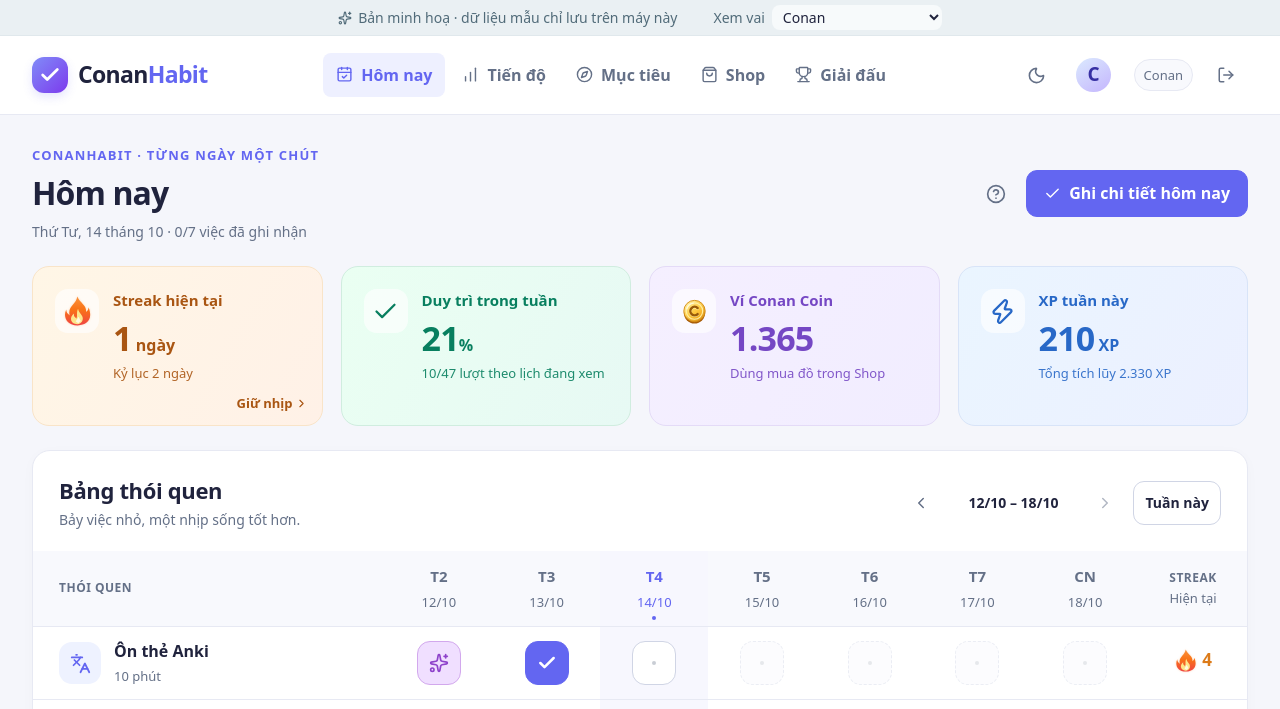
Test: includes desk tidying when a mentor copies a legacy six-habit schedule
Expected: the heading "Hôm nay" is shown, [32,171,168,214]
Select "Người hướng dẫn" in the dropdown named "Vai trong bản minh hoạ" at (857, 18), box [772,5,942,30]
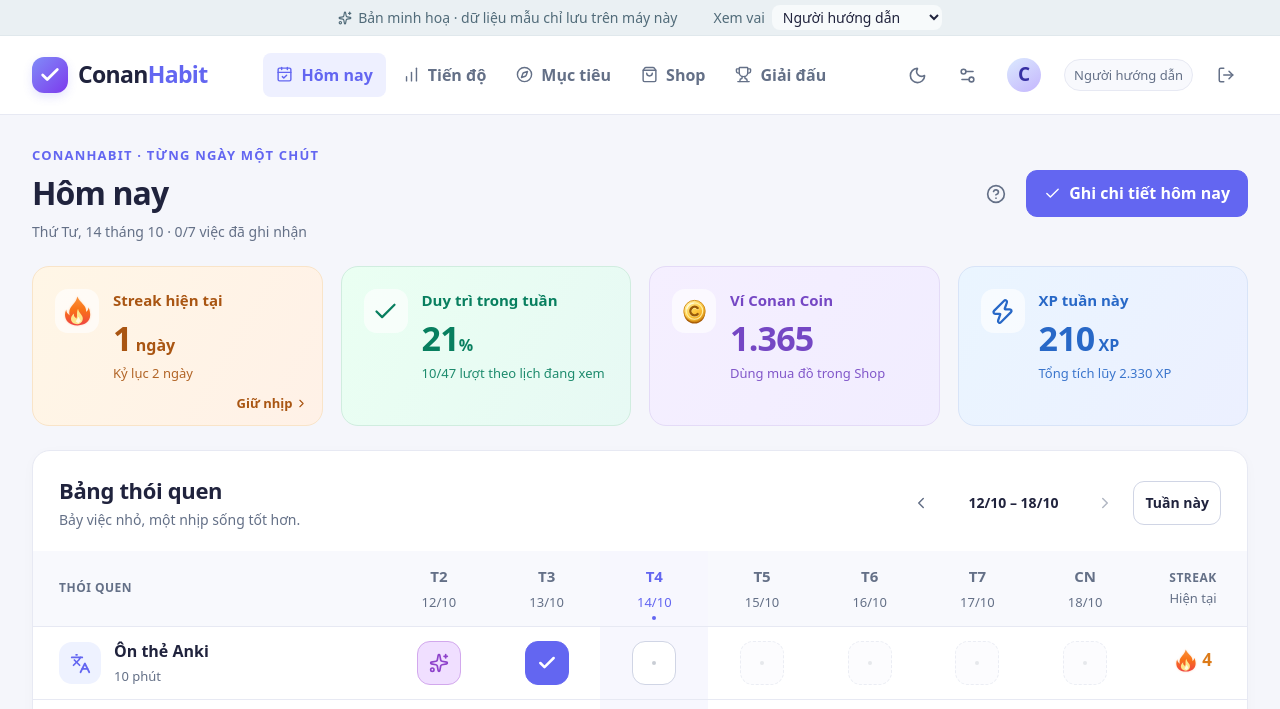
Expected: the text with class "role-pill" reads "Người hướng dẫn", [1074,66,1183,84]
Click the button named "Quản lý" at (967, 75), box [945,53,989,97]
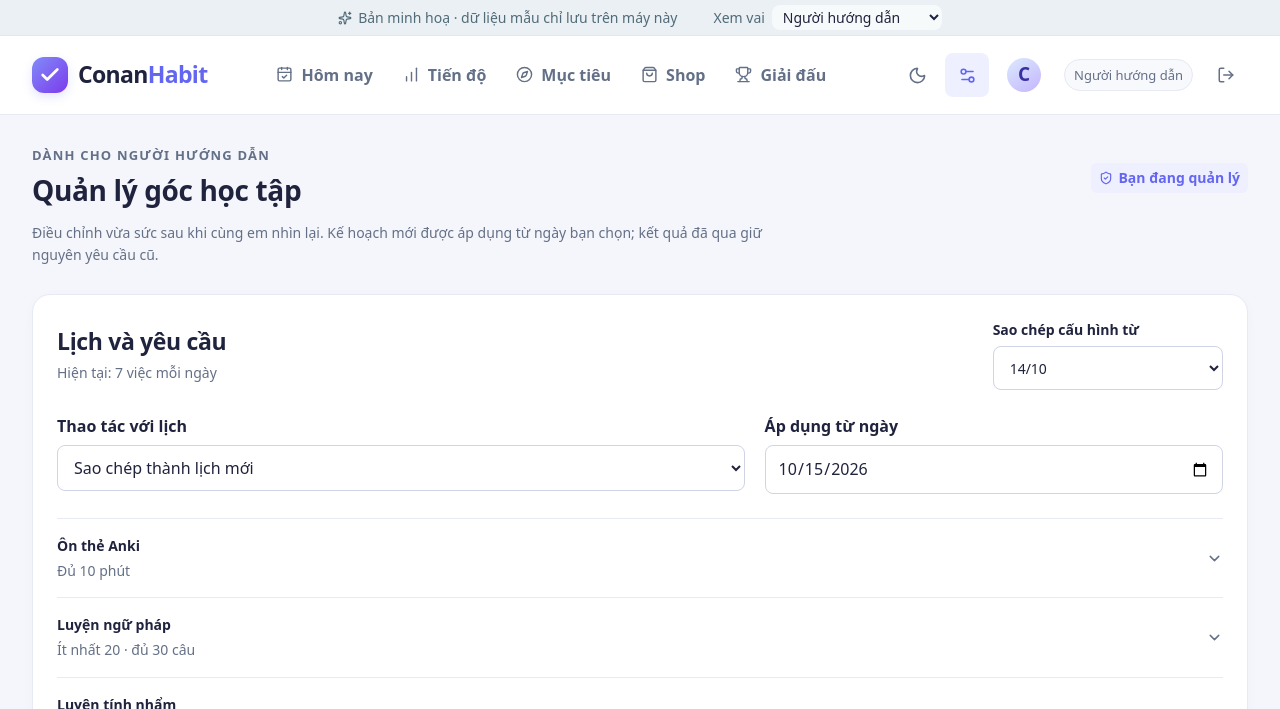
Select "21/09" in the dropdown labelled "Sao chép cấu hình từ" at (1108, 368), box [993,346,1223,390]
(page scrolled)
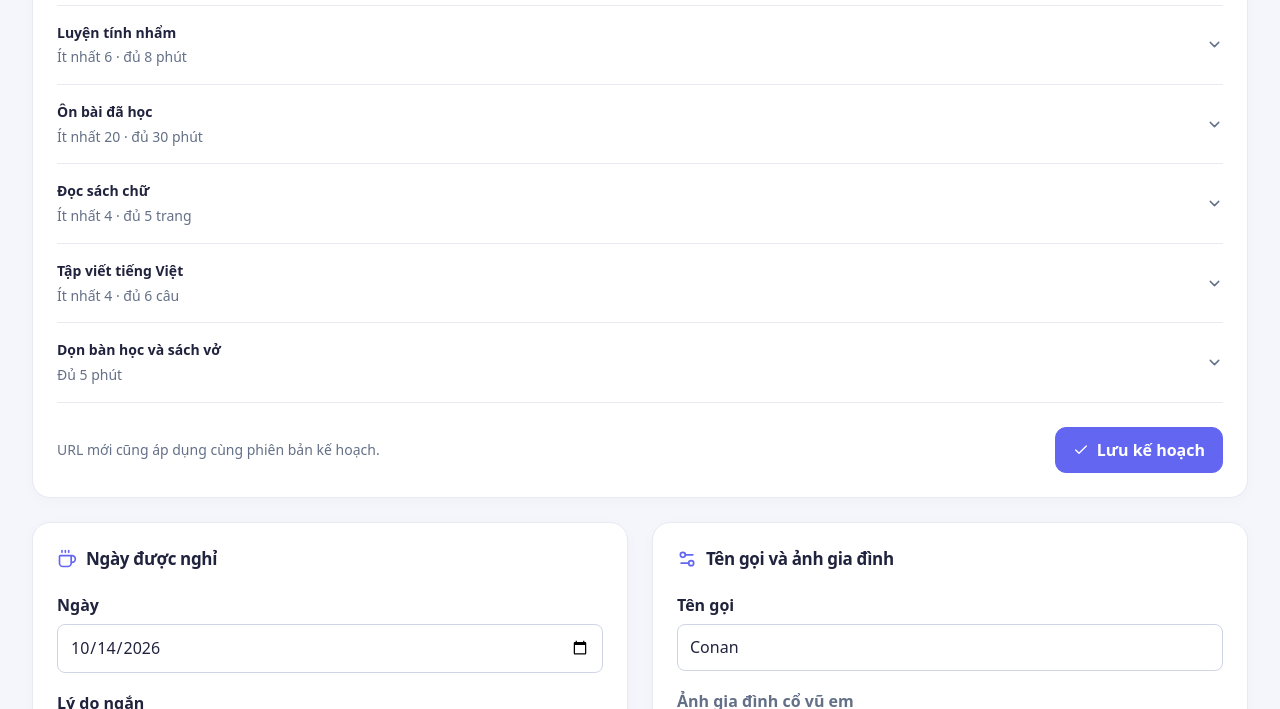
Expected: the text "Dọn bàn học và sách vở" is shown, [57,339,221,361]
Click the button "Lưu kế hoạch" at (1139, 450), box [1055,427,1223,473]
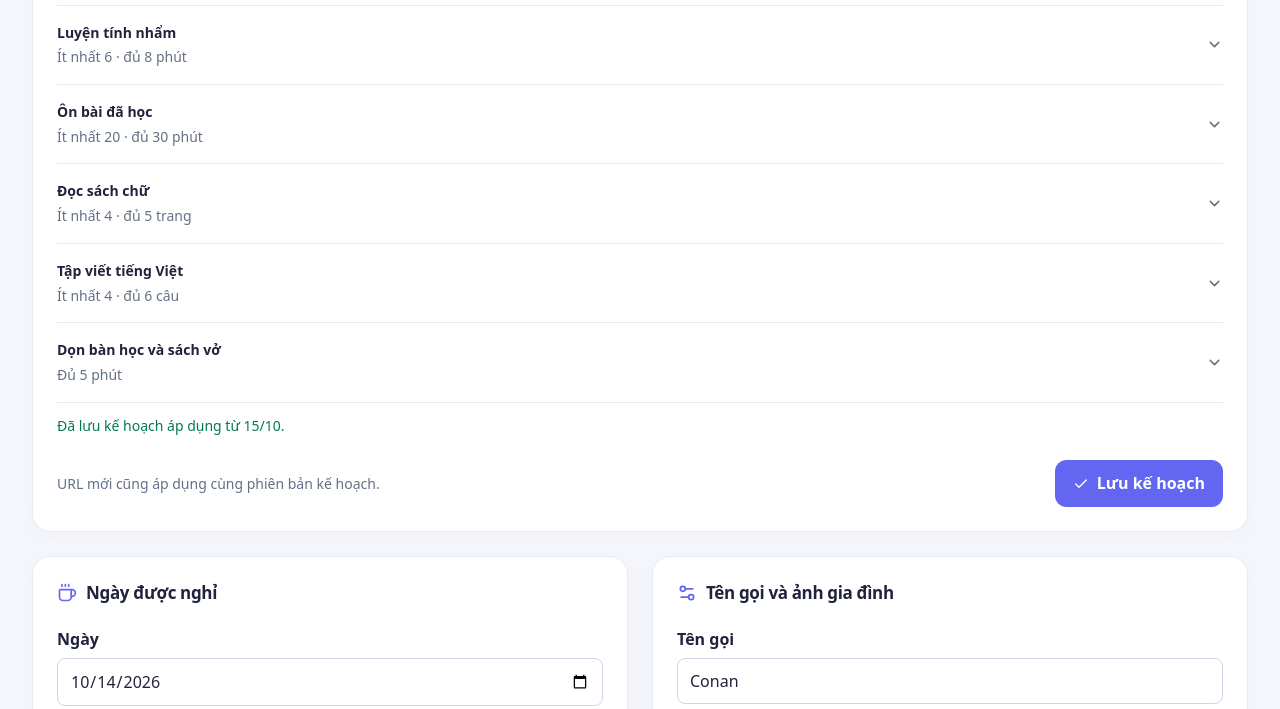
Expected: the text "Đã lưu kế hoạch áp dụng từ 15/10." is shown, [57,416,284,435]
